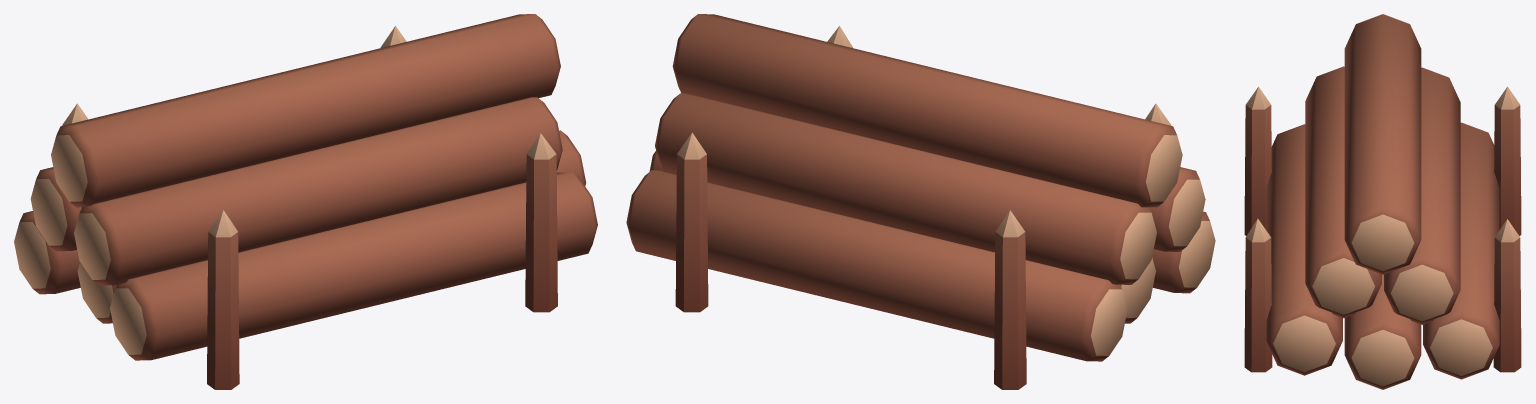
Rendered from log_pile.fbx.
3 renders of one model, left to right at view 1: azimuth 30°, elevation 25°; view 2: azimuth 150°, elevation 25°; view 3: azimuth 270°, elevation 25°, orthographic. The views are drawn at different scales.
Visible parts, largest first — view 1: log_pile; view 2: log_pile; view 3: log_pile.
Part boxes in pixels (box(x1,y1,x2,y2)): log_pile: box(14, 14, 597, 389); log_pile: box(626, 14, 1215, 389); log_pile: box(1244, 14, 1521, 389).
Bounding box in the file's own units: 1.41 × 0.6013 × 0.7945.
1 material, 1 textured.
